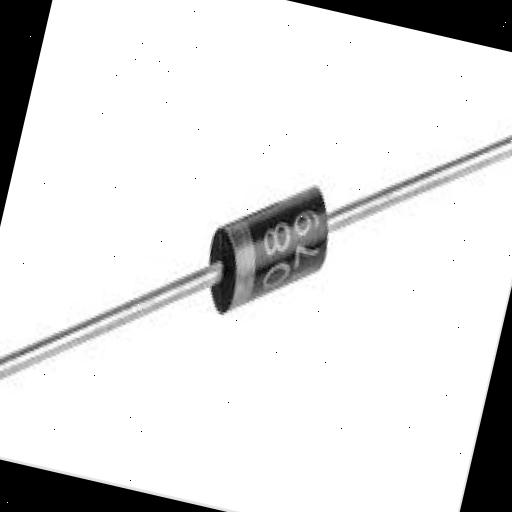DIODE: (0, 24, 512, 485)
